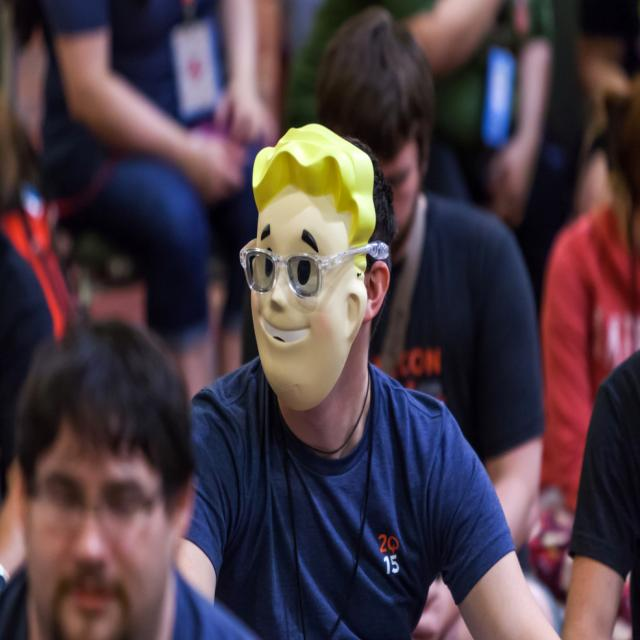Glasses: (244, 208, 390, 303), (27, 480, 164, 540)
